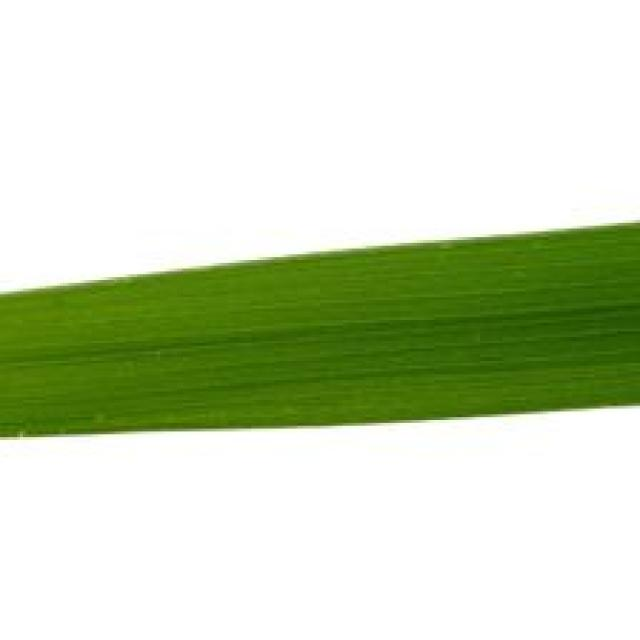Rice___Healthy_Rice_Plant: (0, 221, 637, 440)
